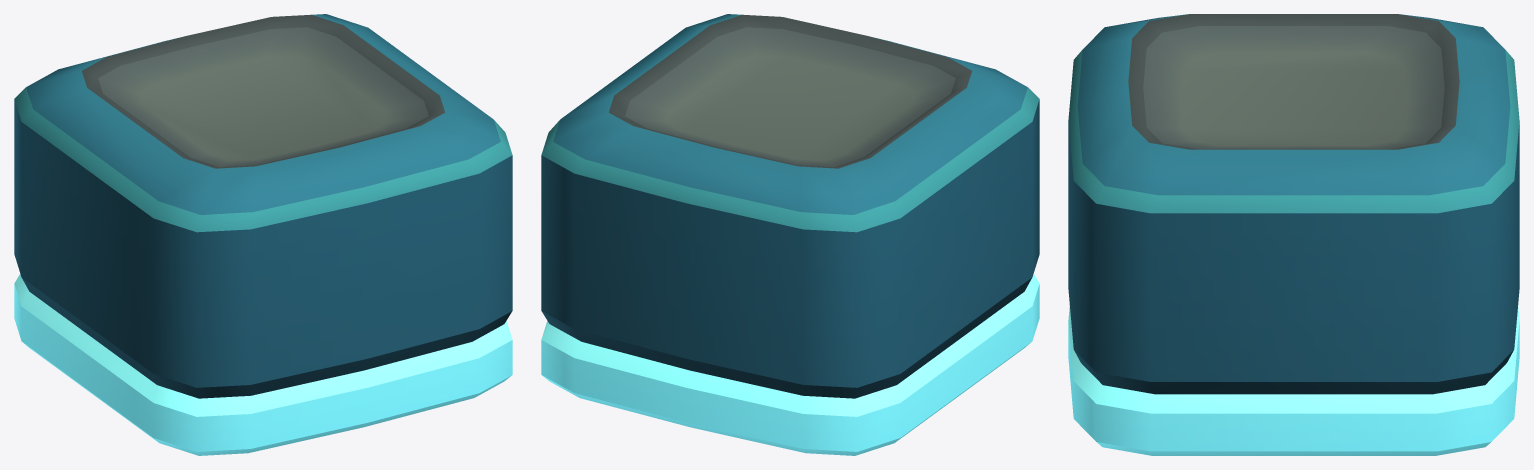
The model's file is matt-stun-head.glb.
3 views of the same model, side by side, from view 1: azimuth 30°, elevation 25°; view 2: azimuth 150°, elevation 25°; view 3: azimuth 270°, elevation 25° (orthographic). The views are drawn at different scales.
Parts seen in each view (by area): view 1: turret_stun_head; view 2: turret_stun_head; view 3: turret_stun_head.
Part boxes in pixels (x1,y1,x2,y2): turret_stun_head: (14, 14, 512, 455); turret_stun_head: (541, 14, 1039, 455); turret_stun_head: (1068, 14, 1519, 455).
Bounding box in the file's own units: 1.87 × 1.33 × 1.91.
1 material, 1 textured.
